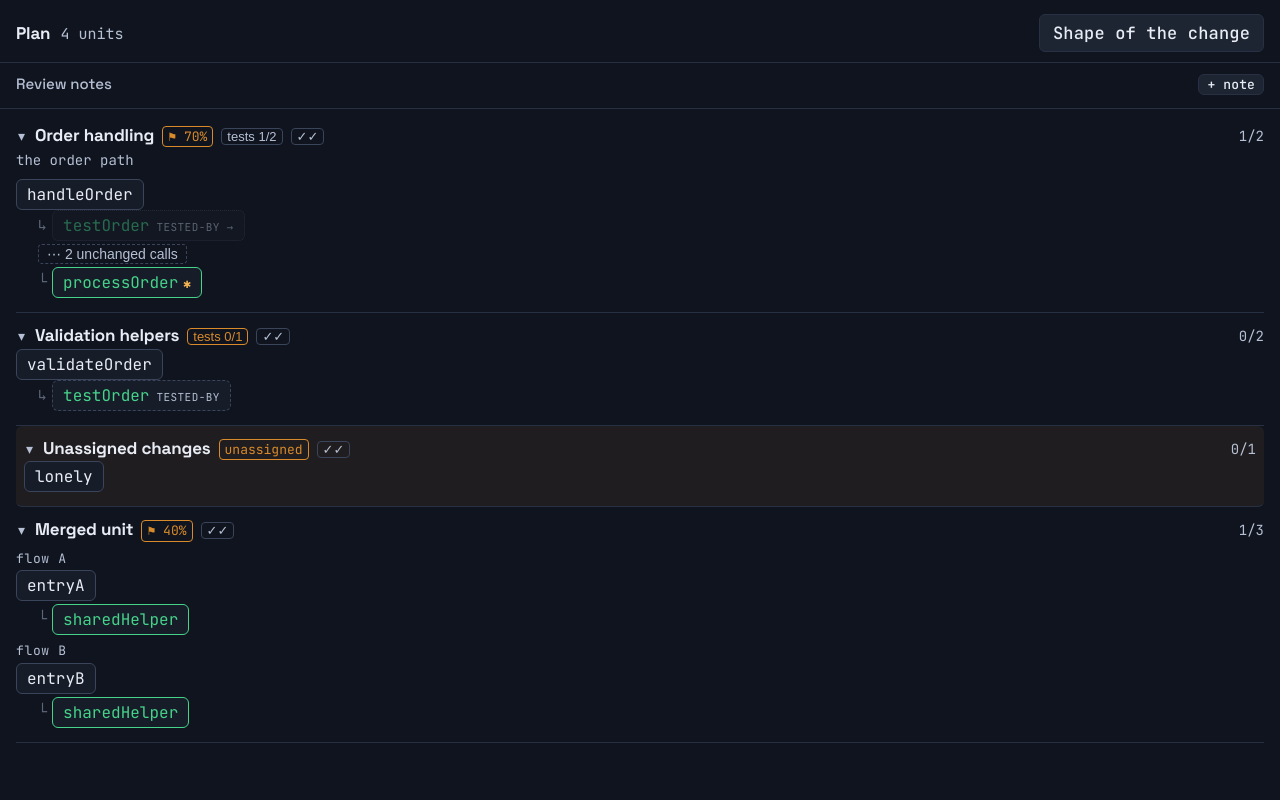
Test: PlanView › collapses consecutive off-path steps into an expandable run
This screenshot has width=1280, height=800.
Expected: the text "ctxHelperOne" is not shown
Step 1. Click the button "⋯ 2 unchanged calls" → point(112, 254), box [38, 244, 187, 264]
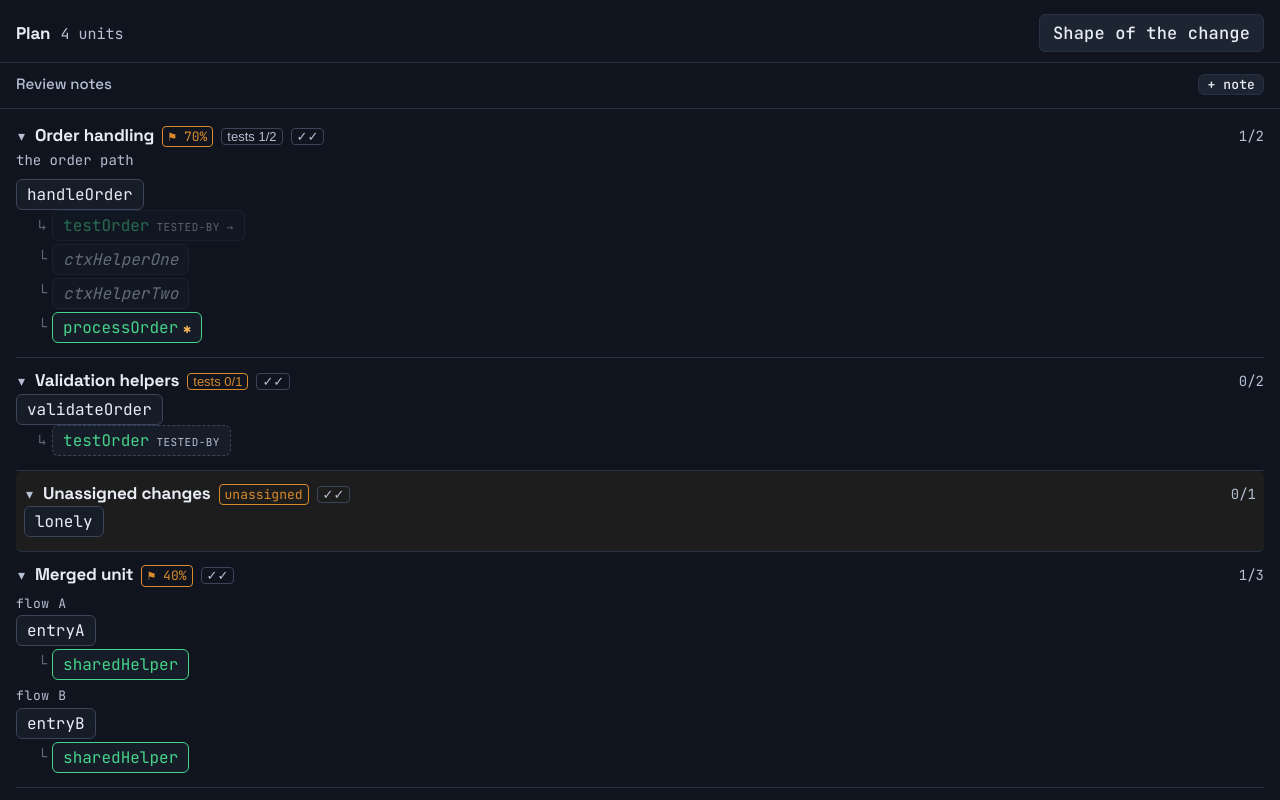
Expected: the button "ctxHelperOne" is shown, [52, 244, 189, 275]
Expected: the button "ctxHelperTwo" is shown, [52, 278, 189, 309]
